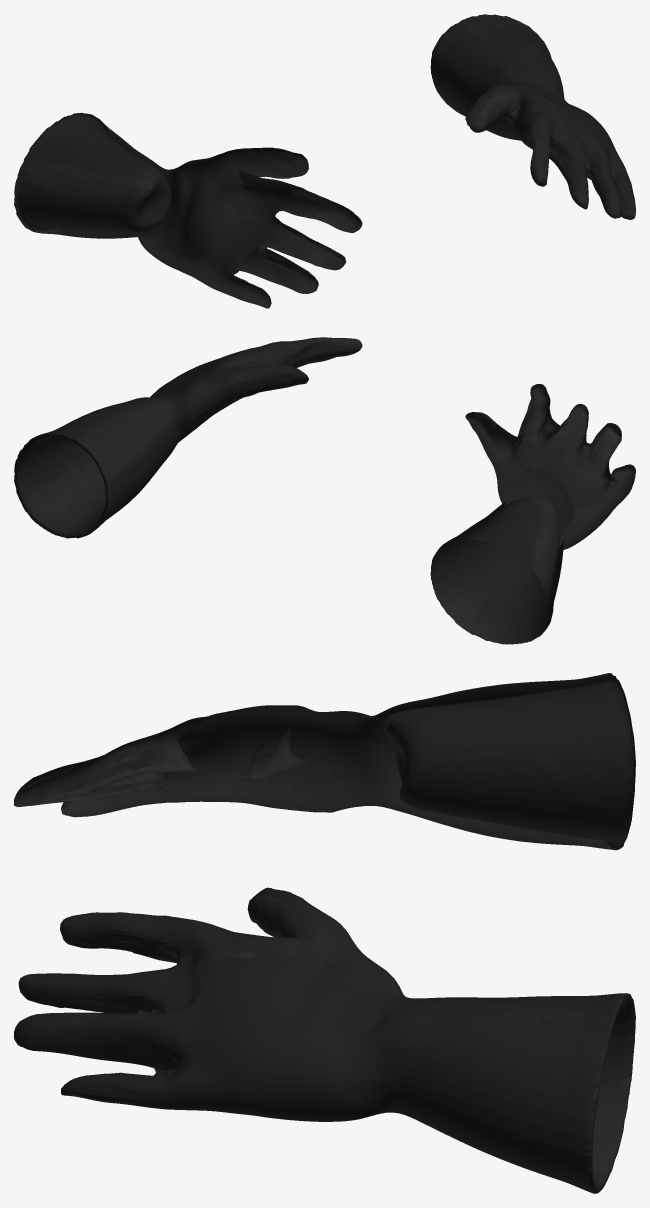
File: Hands.fbx
3 views of the same model, one above another, from view 1: azimuth 30°, elevation 25°; view 2: azimuth 150°, elevation 25°; view 3: azimuth 270°, elevation 25° (orthographic). The views are drawn at different scales.
Visible parts, largest first — view 1: Hands; view 2: Hands; view 3: Hands.
Part boxes in pixels (left/top/right/bottom): Hands: left=14, top=14, right=635, bottom=308; Hands: left=14, top=337, right=635, bottom=644; Hands: left=14, top=673, right=635, bottom=1193.
Bounding box in the file's own units: 51.32 × 11.42 × 32.4.
Materials: 1 (1 with a texture image).
